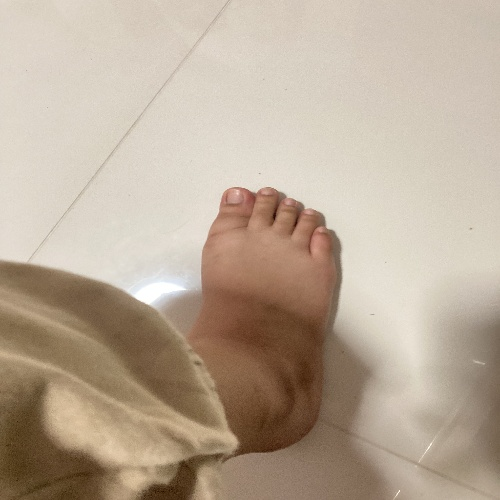3: (216, 187, 253, 233)
4: (270, 380, 321, 447)
Top_Foot: (200, 186, 335, 454)
